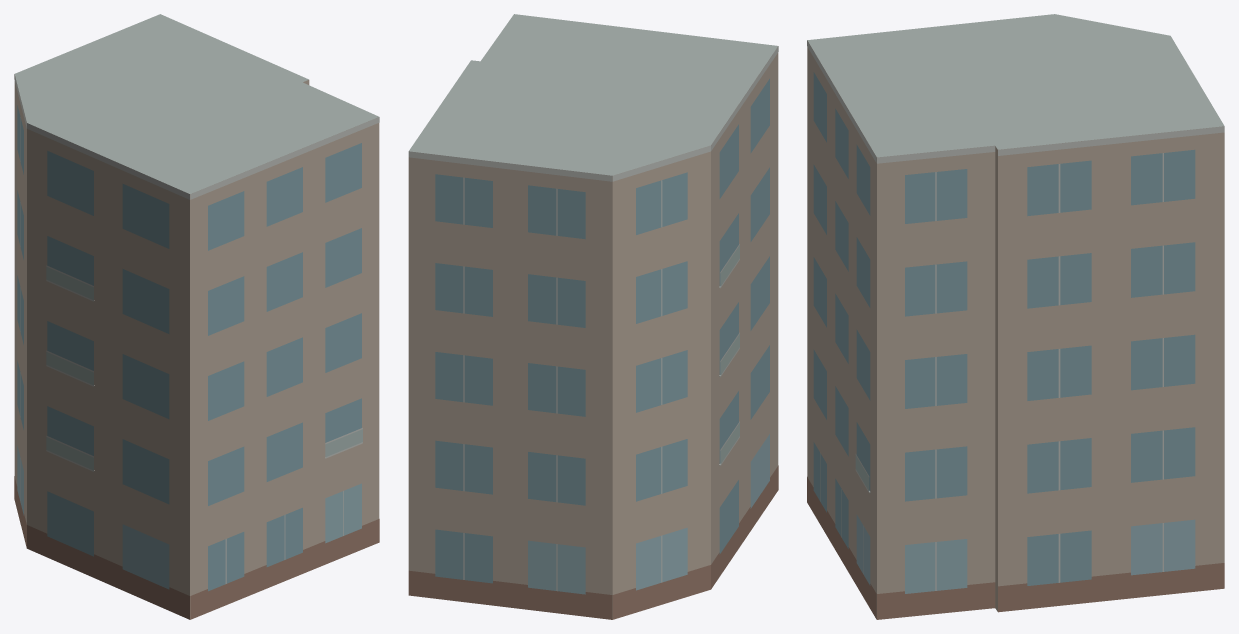
Rendered from survey-upis-32986703.glb.
The picture shows the model from 3 angles, left to right: view 1: azimuth 30°, elevation 25°; view 2: azimuth 150°, elevation 25°; view 3: azimuth 270°, elevation 25°; orthographic projection. The views are drawn at different scales.
Visible parts, largest first — view 1: survey-upis-32986703.tmp; view 2: survey-upis-32986703.tmp; view 3: survey-upis-32986703.tmp.
Boxes of the visible parts, bbox=[...] form: survey-upis-32986703.tmp: bbox=[14, 14, 379, 619]; survey-upis-32986703.tmp: bbox=[408, 14, 778, 619]; survey-upis-32986703.tmp: bbox=[807, 14, 1224, 619].
Bounding box in the file's own units: 11.97 × 17.97 × 14.71.
